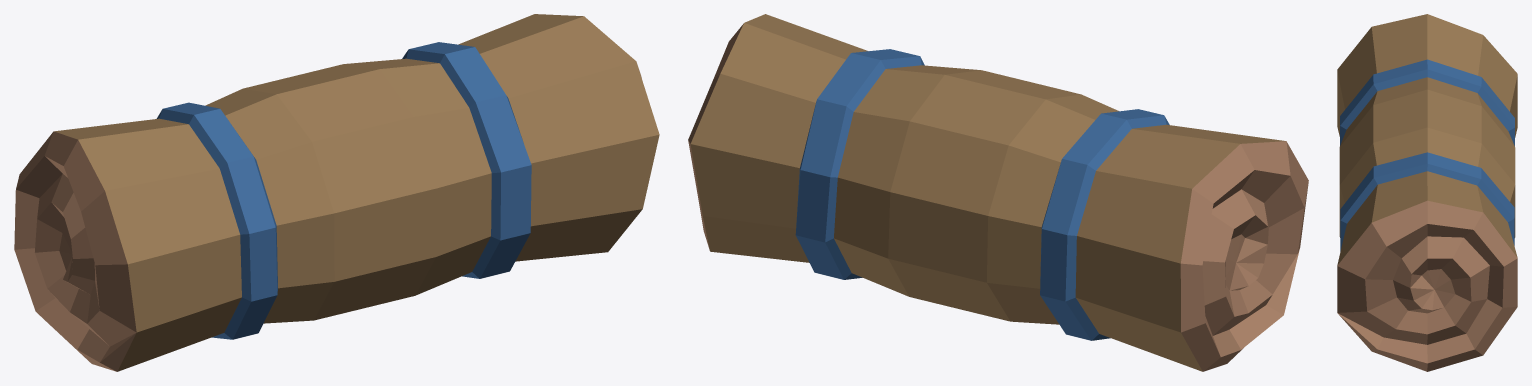
Rendered from SM_Item_Roll_Attachment_01.fbx.
3 views of the same model, side by side, from view 1: azimuth 30°, elevation 25°; view 2: azimuth 150°, elevation 25°; view 3: azimuth 270°, elevation 25° (orthographic). The views are drawn at different scales.
Parts seen in each view (by area): view 1: SM_Item_Roll_Attachment_01; view 2: SM_Item_Roll_Attachment_01; view 3: SM_Item_Roll_Attachment_01.
Boxes of the visible parts, bbox=[...] form: SM_Item_Roll_Attachment_01: bbox=[14, 14, 659, 371]; SM_Item_Roll_Attachment_01: bbox=[688, 14, 1308, 371]; SM_Item_Roll_Attachment_01: bbox=[1337, 14, 1517, 371].
Bounding box in the file's own units: 0.00501 × 0.00194 × 0.00185.
Materials: 1 (1 with a texture image).
